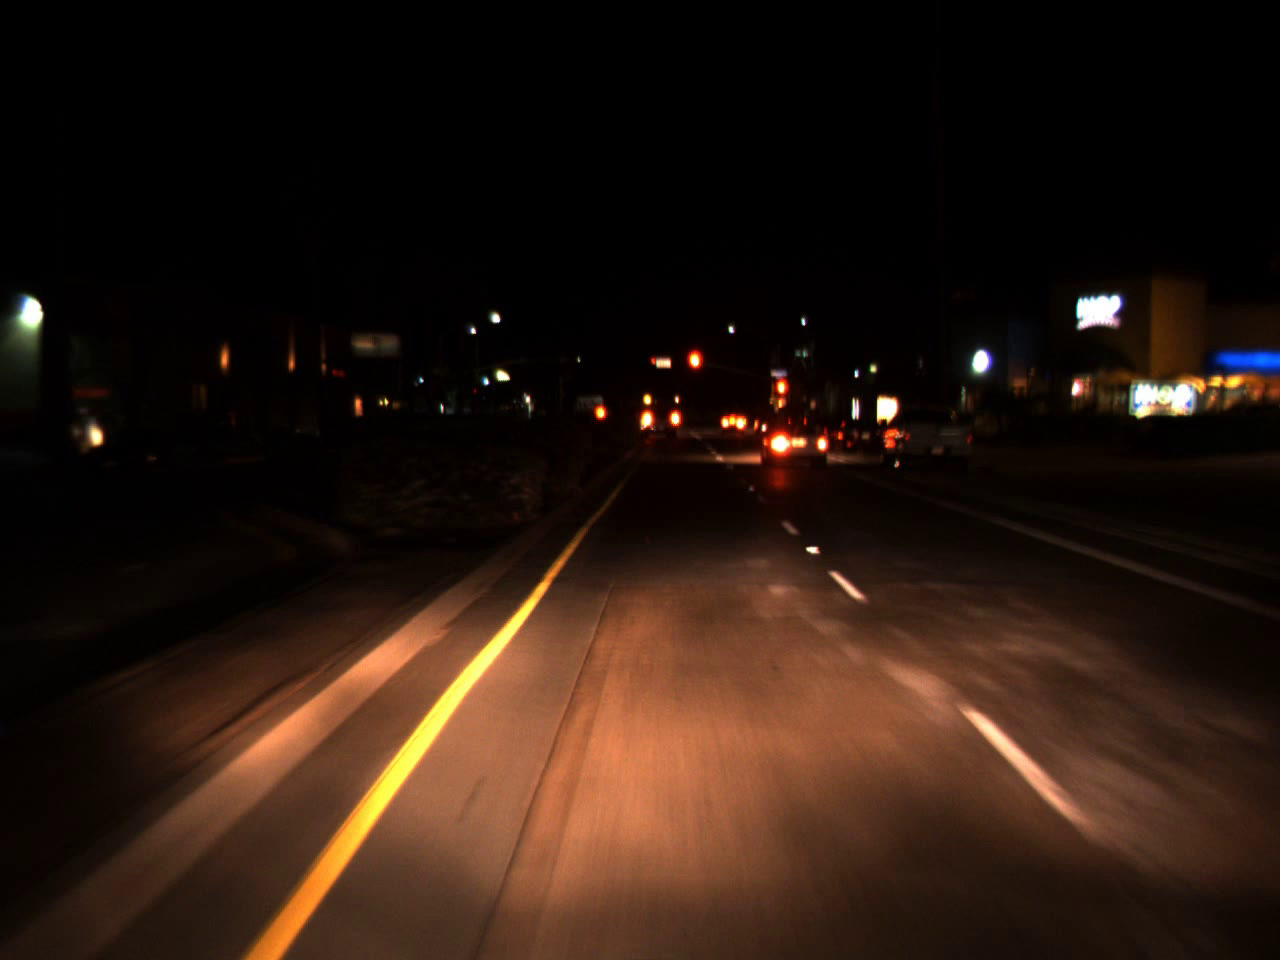stop: (684, 346, 705, 391), (773, 374, 791, 417), (650, 356, 657, 372)
